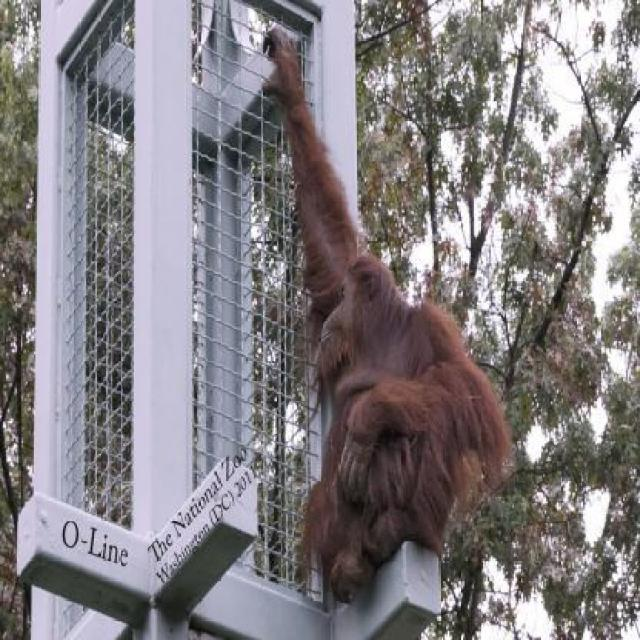Monkey: (262, 26, 510, 602)
